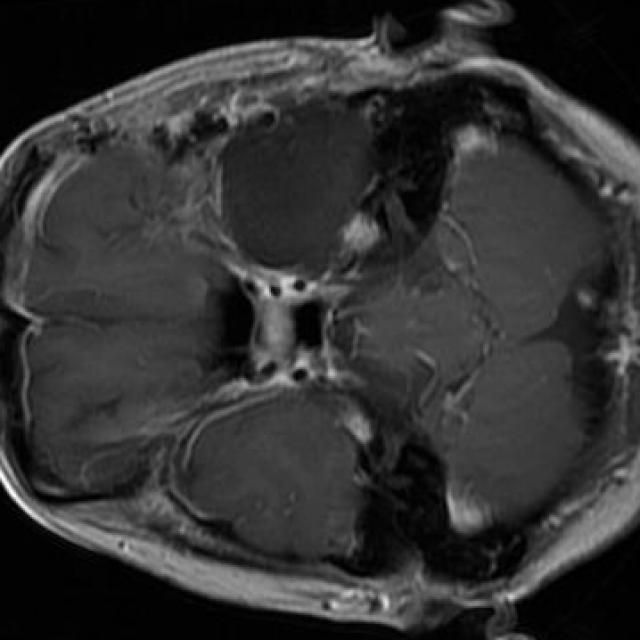glioma: (219, 111, 374, 271)
